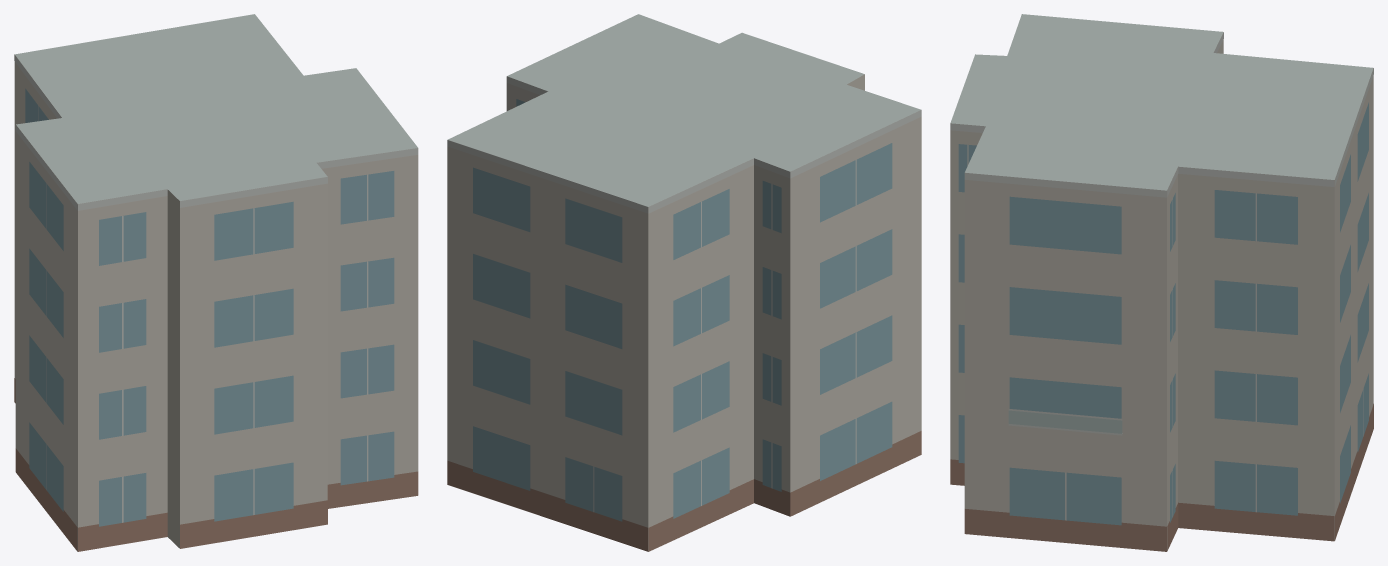
File: survey-upis-32679288.glb
The picture shows the model from 3 angles, left to right: view 1: azimuth 30°, elevation 25°; view 2: azimuth 150°, elevation 25°; view 3: azimuth 270°, elevation 25°; orthographic projection. The views are drawn at different scales.
Visible parts, largest first — view 1: survey-upis-32679288.tmp; view 2: survey-upis-32679288.tmp; view 3: survey-upis-32679288.tmp.
Part boxes in pixels (x1,y1,x2,y2): survey-upis-32679288.tmp: [14, 14, 418, 551]; survey-upis-32679288.tmp: [447, 14, 921, 551]; survey-upis-32679288.tmp: [950, 14, 1373, 551].
Bounding box in the file's own units: 13.12 × 12.5 × 13.29.
